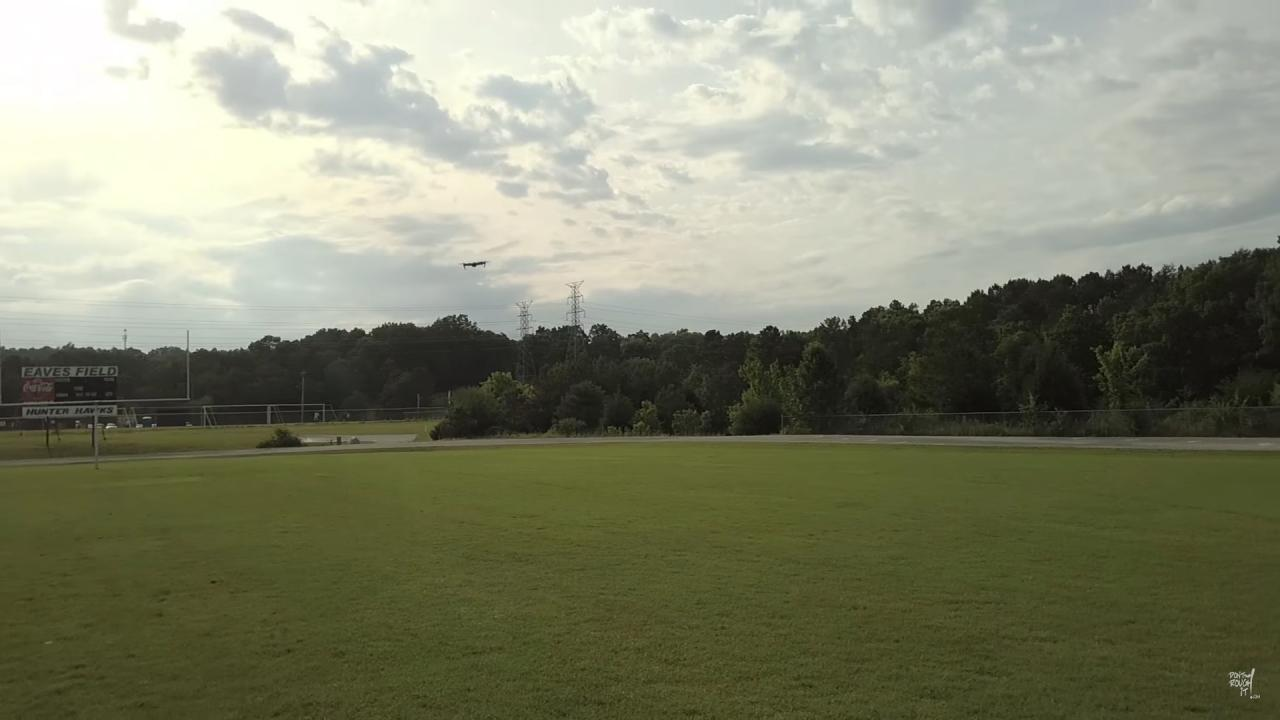Drone: (452, 248, 498, 282)
